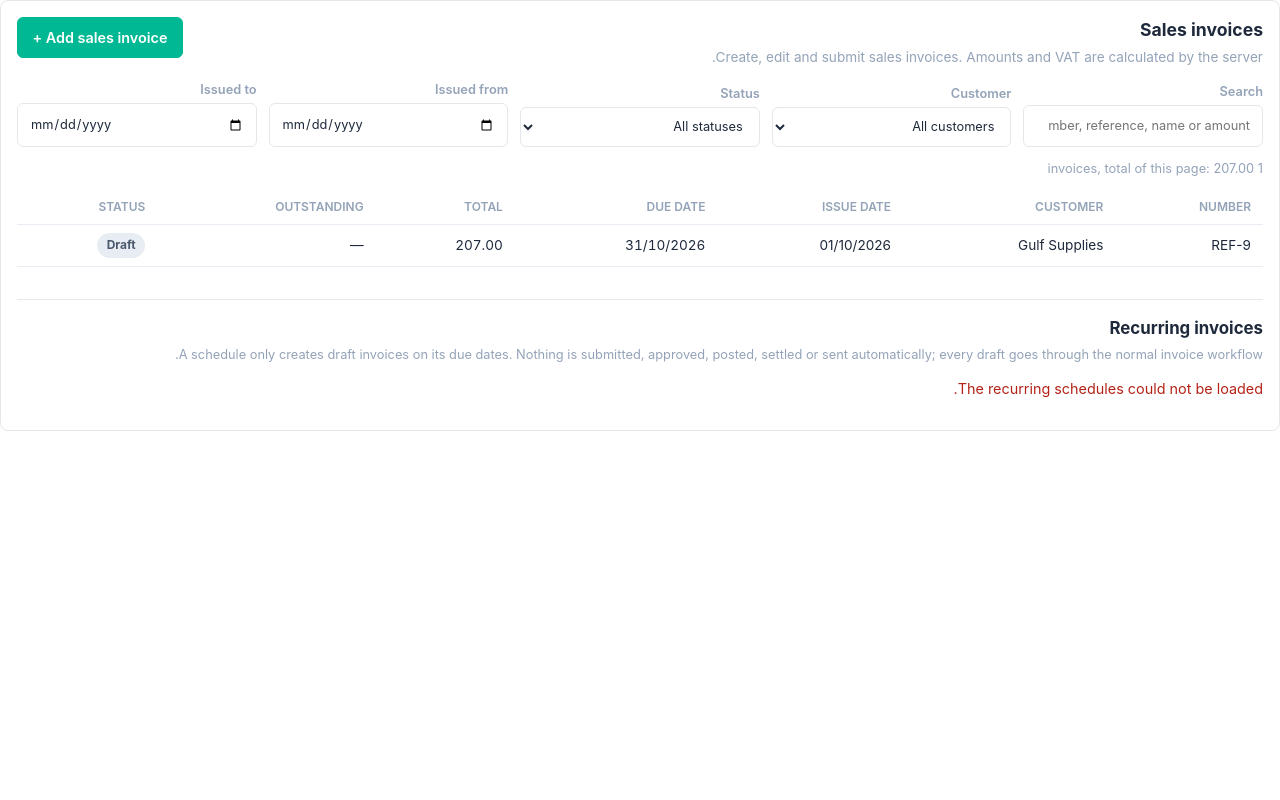
Scenario: Invoice details actions › shows exactly one prominent action and keeps cancel/delete under "More"
This screenshot has width=1280, height=800.
Click the text "REF-9". click: x=1189, y=245
box: [1115, 225, 1263, 266]
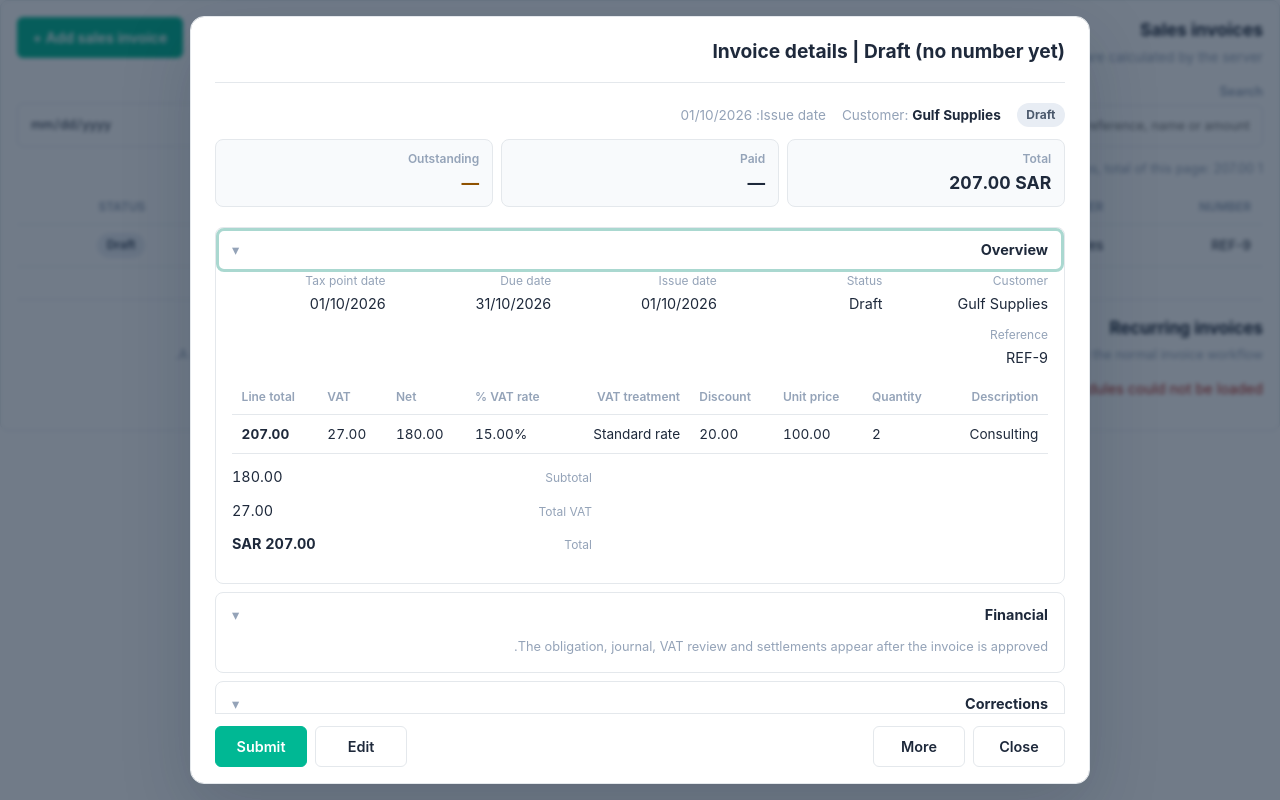
Expected: the button "Cancel invoice" is not shown
Expected: the button "Delete draft" is not shown
Click the button "More". click: x=919, y=746
box: [873, 726, 965, 767]
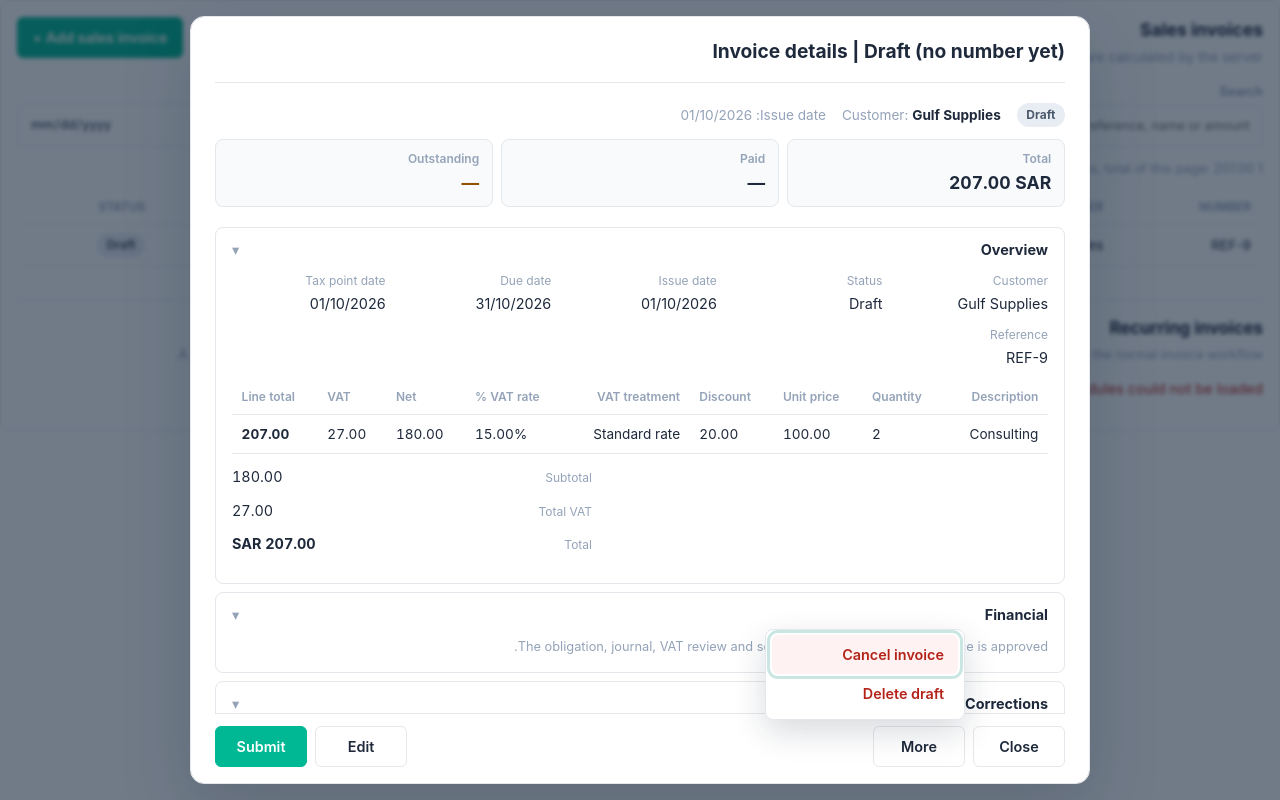
Now the menu items read "Cancel invoice", "Delete draft", in this order, box [772, 635, 958, 674]; [772, 674, 958, 713]
